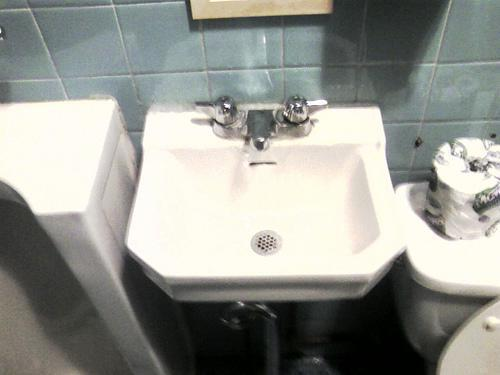Lavamanos: (138, 91, 405, 302)
